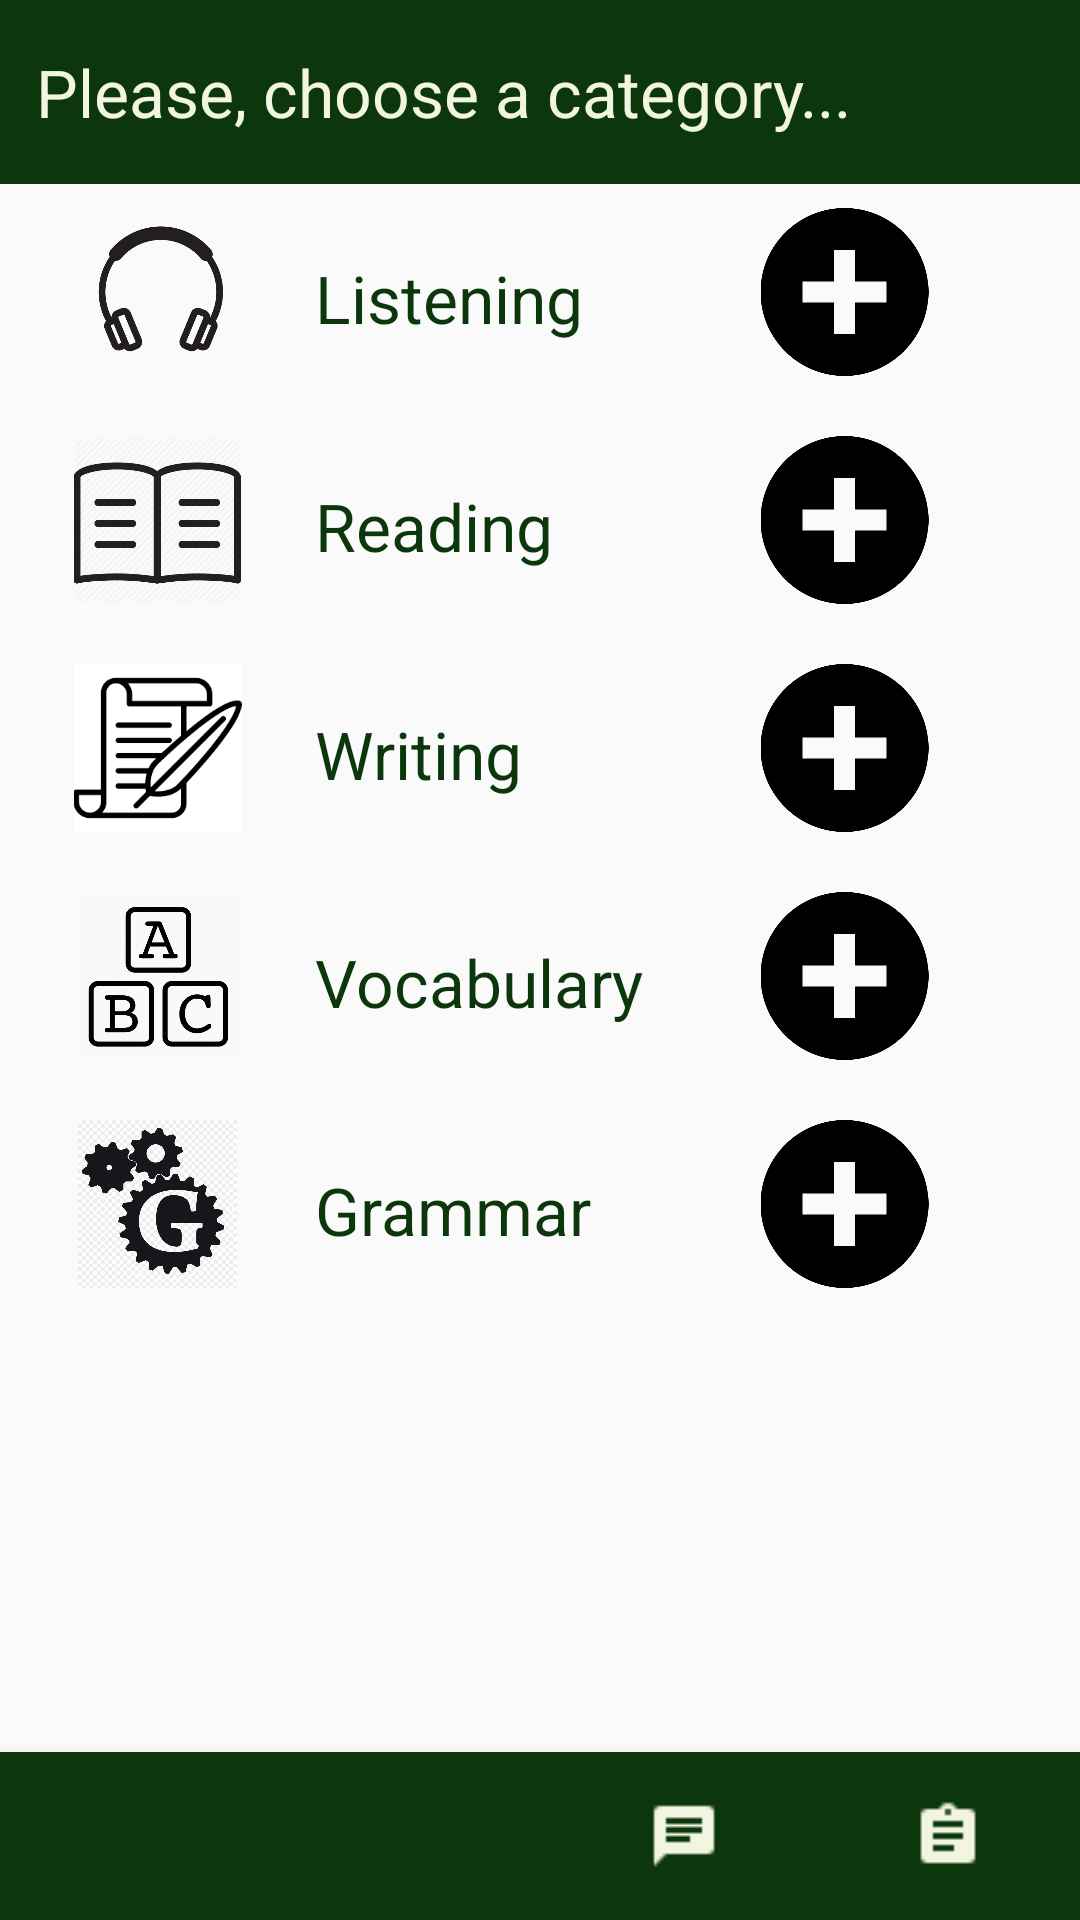

Icons on this 1080 x 1920 Android screen, each with its box as (x1, y1, x2, y2):
add: (761, 208, 929, 376), (761, 436, 929, 604), (761, 664, 929, 832), (761, 892, 929, 1060), (761, 1120, 929, 1288)
